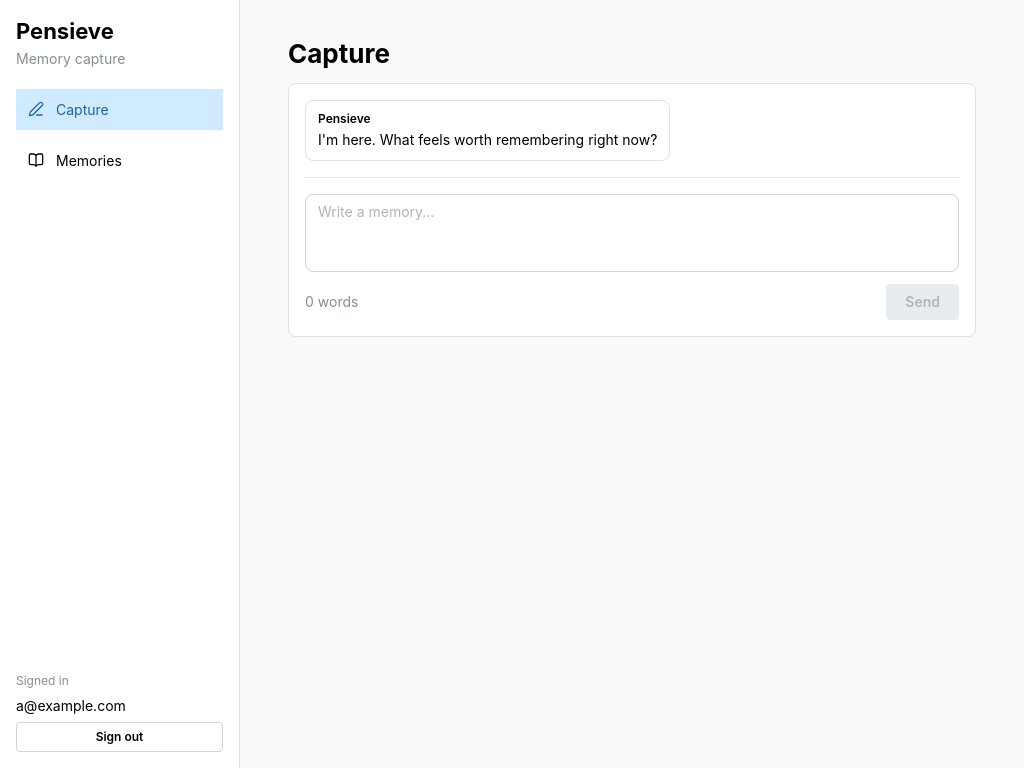
App memory flow › submits on Ctrl+Enter from the composer
Type "A quiet thought" into the text box named "Message to save as a memory". click: (632,233)
box: [305, 194, 959, 272]
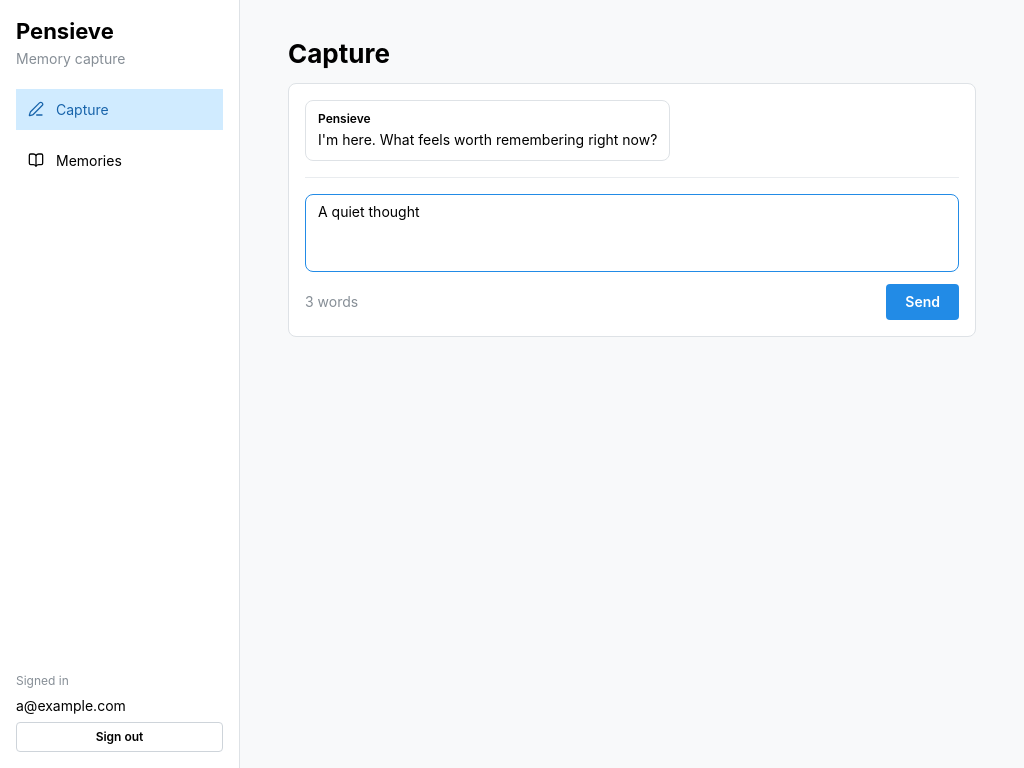
Type keys "{Control>}{Enter}{/Control}"
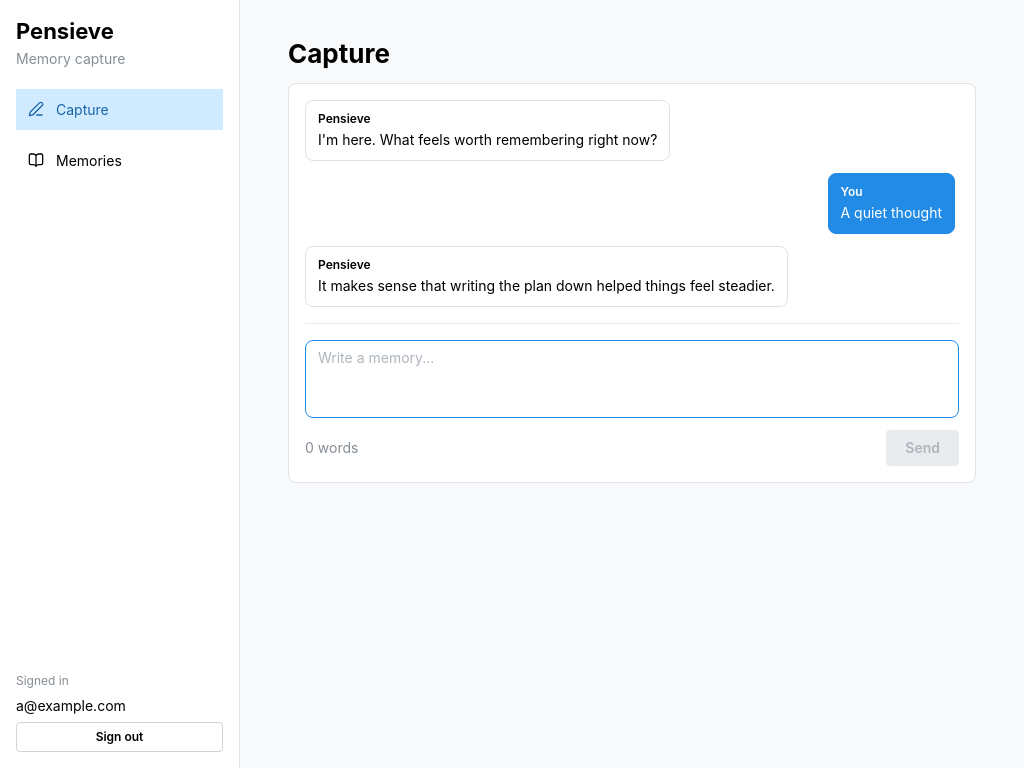
Expected: the text "It makes sense that writing the plan down helped things feel steadier." is shown, [318, 276, 775, 296]
